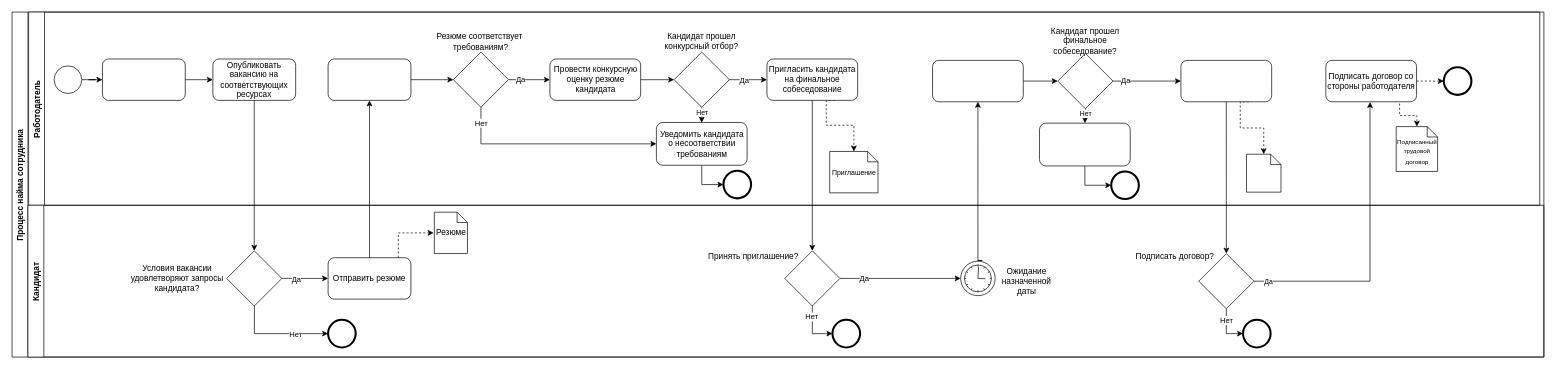
Some shapes in this 1556 by 369 pixel diagram are drawn without their labels. The shapes that lost their labels are listed below. From the top down, each one's centre as x and y in pixels, then its label:
At point 143,79: "Определить необходимые навыки и знания кандидата".
At point 369,79: "Определить соответствие кандидата вакансии".
At point 977,81: "Провести финальное собеседование".
At point 1226,81: "Выслать кандидату трудовой договор".
At point 1084,144: "Уведомить кандидата о результате".
At point 1263,173: "Трудовой договор".
